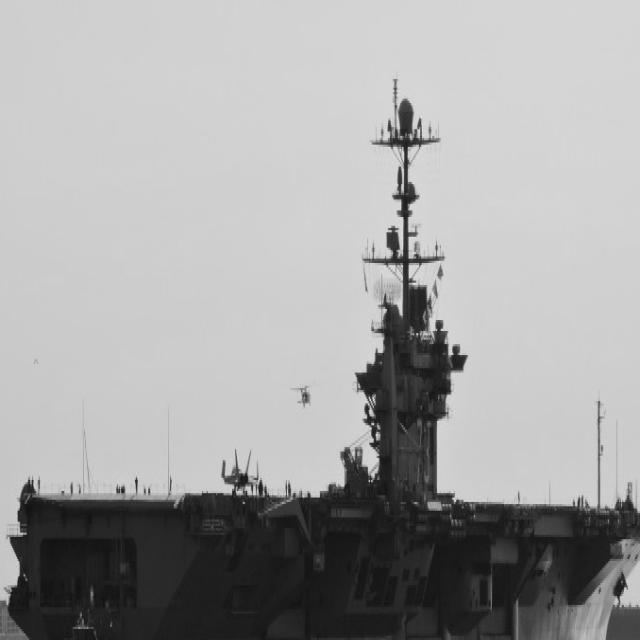Portanaves: (4, 60, 640, 640)
